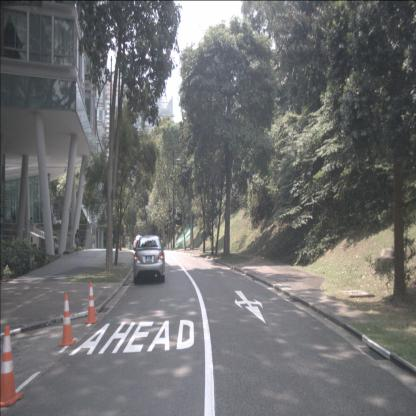cone: (0, 324, 24, 408), (58, 294, 76, 347), (84, 282, 99, 324)
